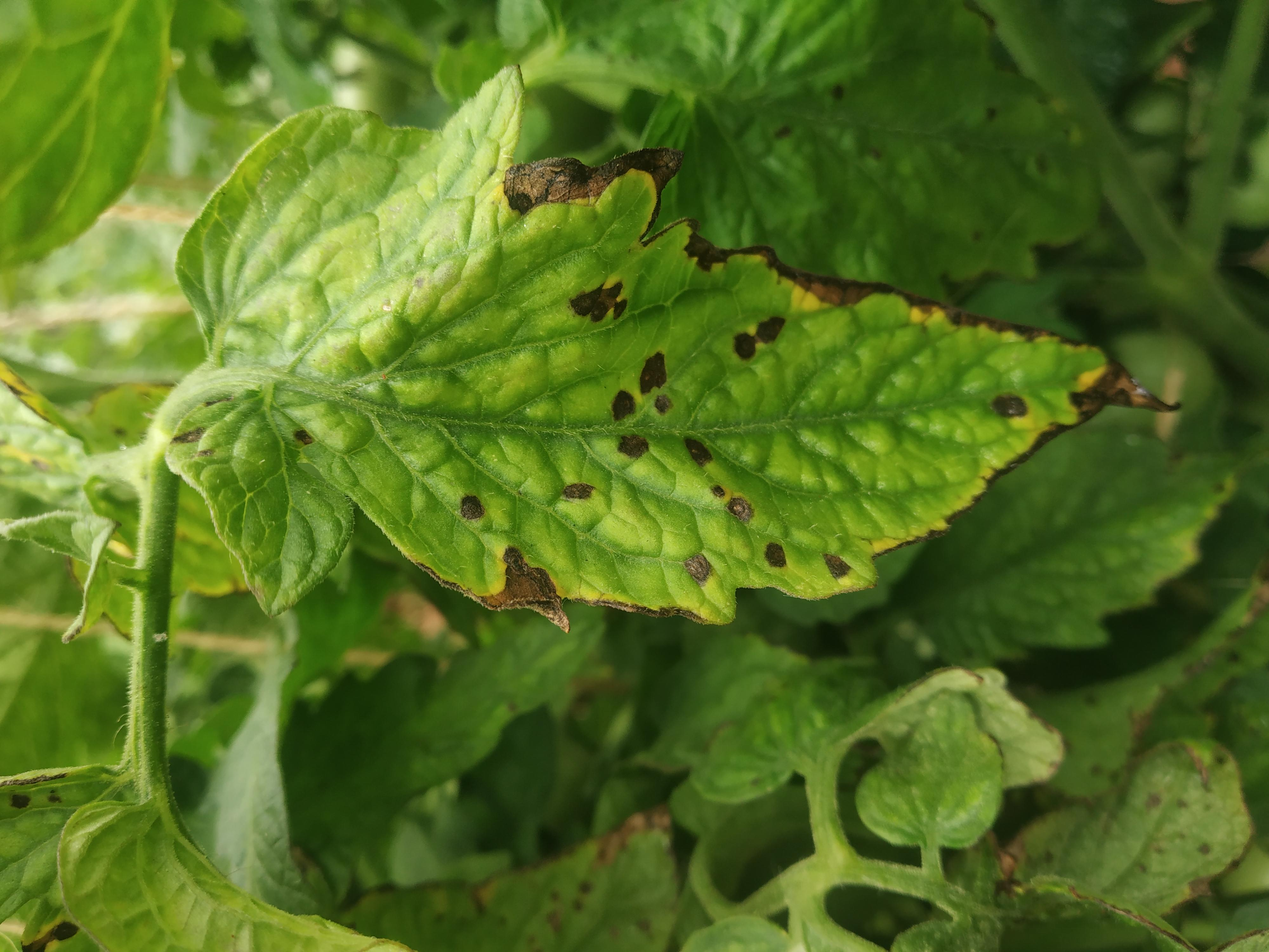Early Blight: (416, 125, 1194, 897)
